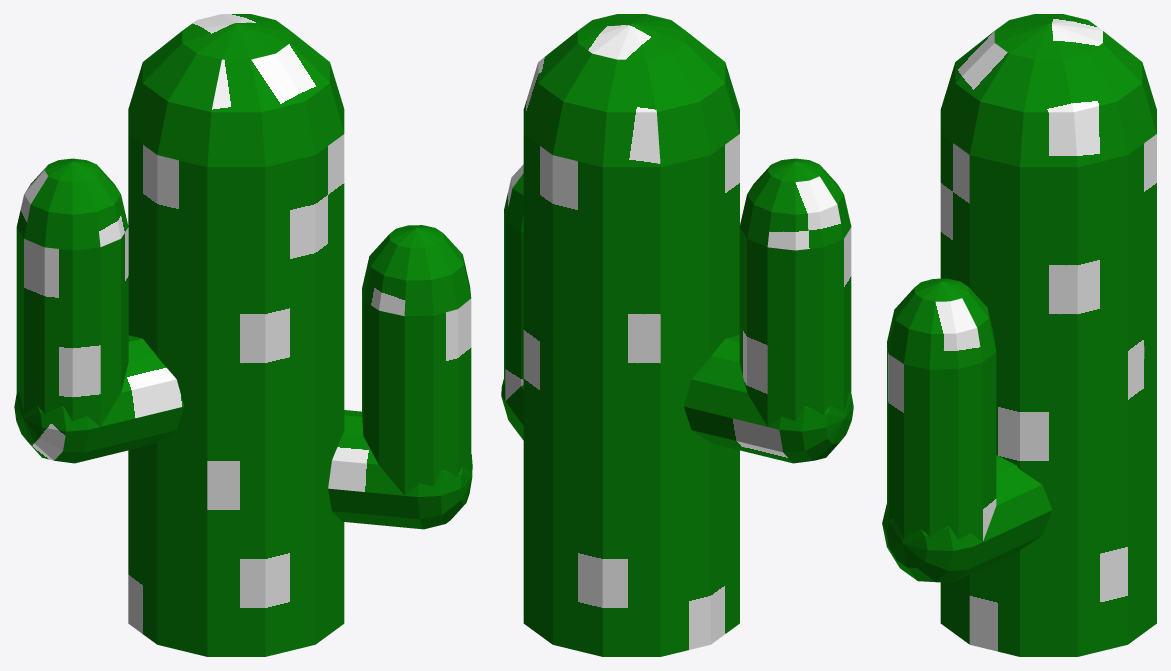
The model's file is cacto.obj.
3 renders of one model, left to right at view 1: azimuth 30°, elevation 25°; view 2: azimuth 150°, elevation 25°; view 3: azimuth 270°, elevation 25°, orthographic.
Parts seen in each view (by area): view 1: sphere; view 2: sphere; view 3: sphere.
Part boxes in pixels (x1,y1,x2,y2): sphere: (14,14,472,656); sphere: (501,14,853,656); sphere: (882,14,1156,656).
Bounding box in the file's own units: 0.5218 × 0.75 × 0.3179.
1 material, 1 textured.
